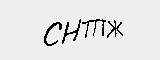Ж: (105, 20, 124, 39)
Н: (62, 19, 82, 44)
П: (91, 17, 107, 39)
С: (43, 21, 62, 48)
Т: (79, 16, 94, 41)
